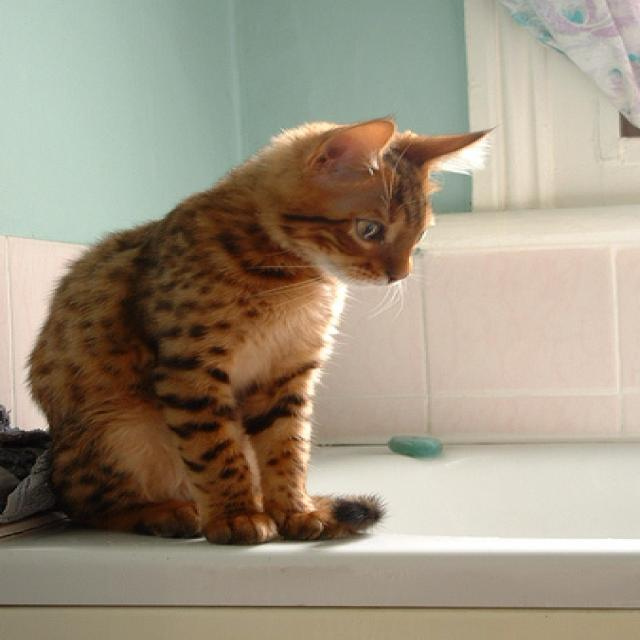Bengal: (18, 104, 508, 575)
